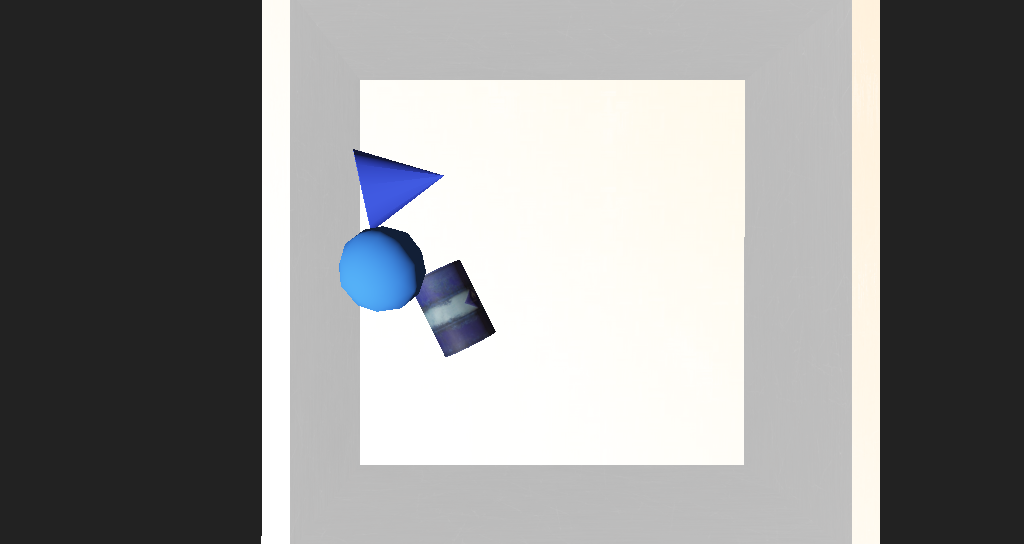cone: (391, 265, 458, 317)
cylinder: (340, 193, 441, 246)
sphere: (337, 243, 404, 291)
